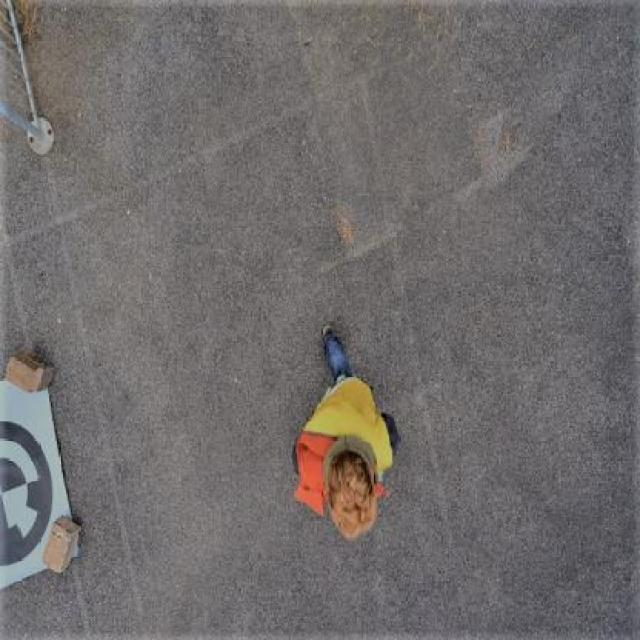Person: (290, 314, 402, 551)
